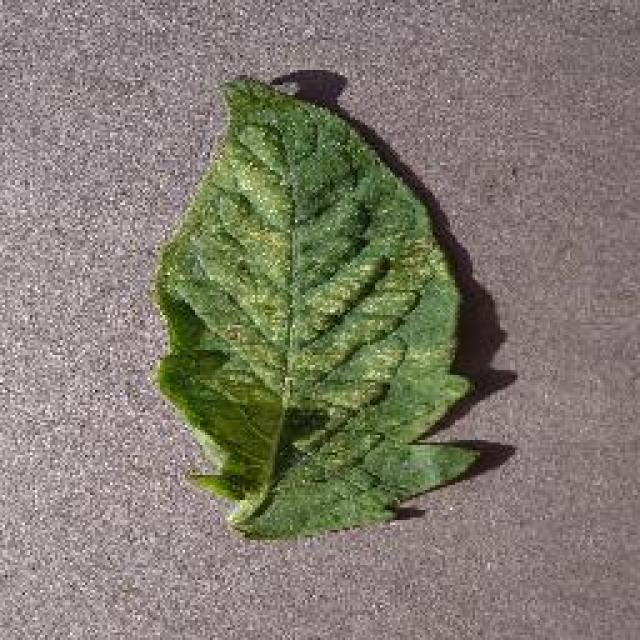Tomato___Spider_mites Two-spotted_spider_mite: (158, 80, 478, 538)
